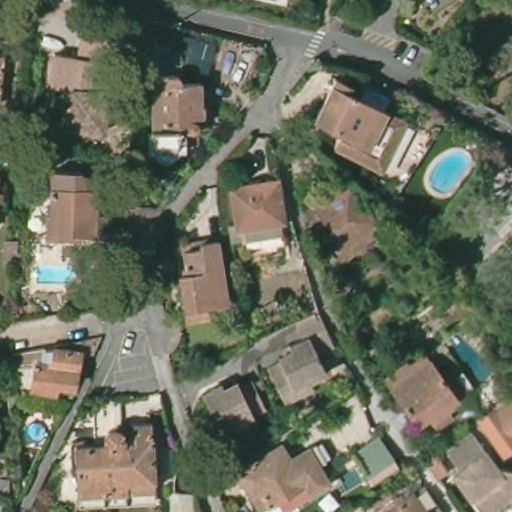pool: (449, 327, 499, 388), (423, 148, 477, 200), (31, 257, 94, 291), (23, 416, 50, 445)
